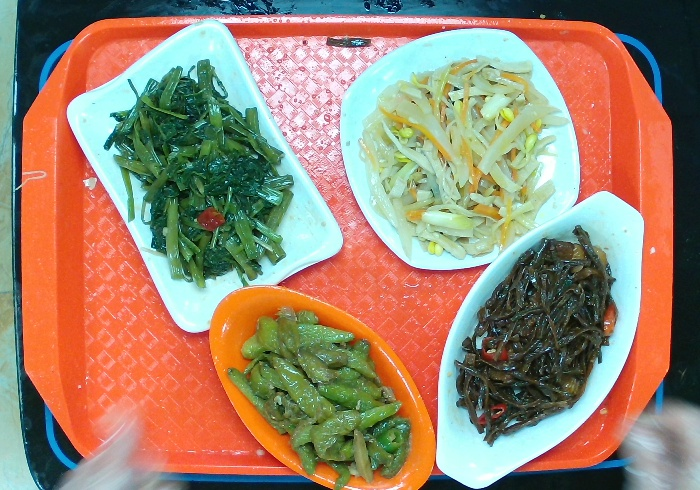RJxy-Ju_Huang_Tuo_Yuan: (205, 281, 440, 490)
RJxy-Si_Fang_Ao_Bian_Wan: (58, 16, 353, 338)
RJxy-Si_Fang_Die: (337, 24, 587, 275)
RJxy-Yu_Pan: (432, 188, 652, 490)
